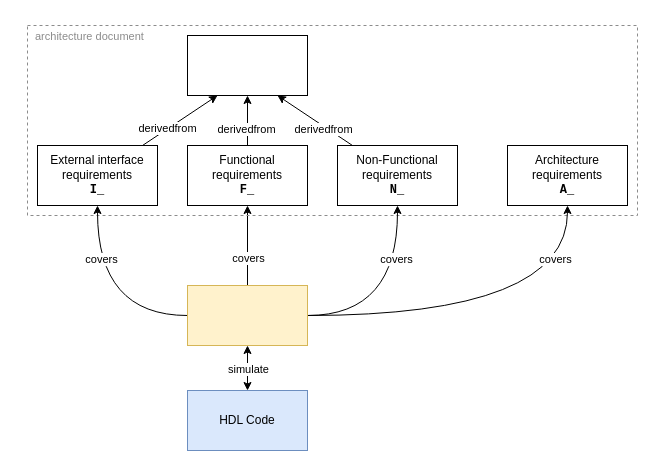
The diagram is 664 pixels wide and 474 high, and some of its shapes have lost their labels. The shapes that lost their labels are listed below. From the top down, each one's centre as x and y in pixels, then its label:
At [247,65]: "User requirements U_".
At [247,315]: "Test checks".
